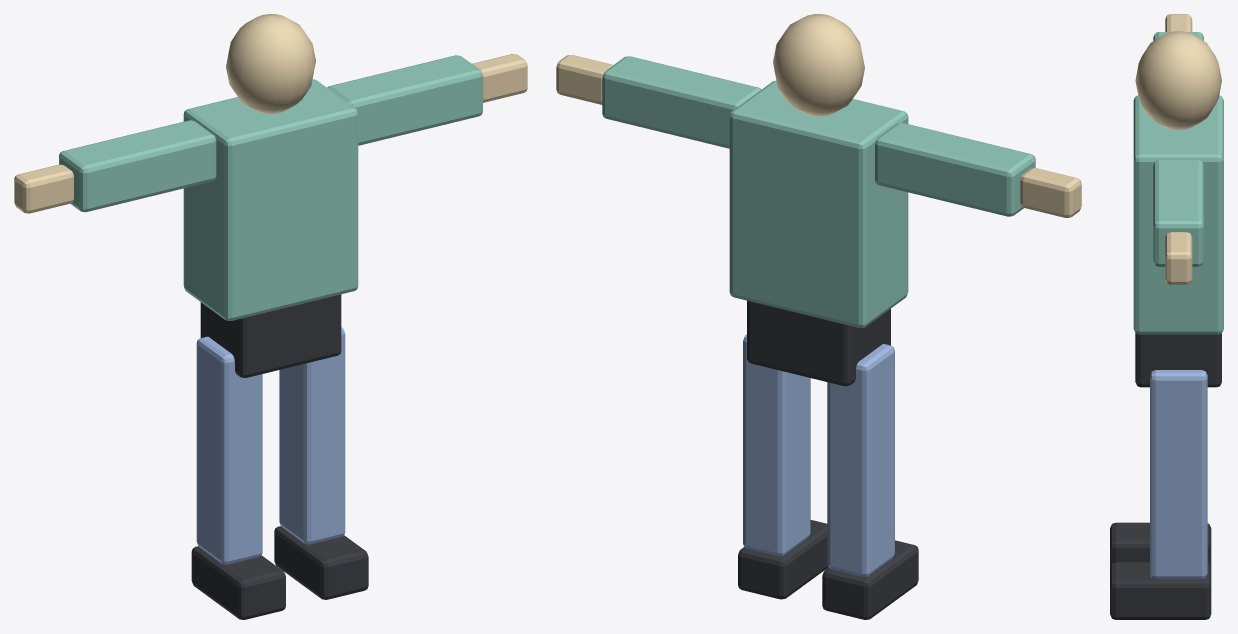
Rendered from TravelerB_blockout.glb.
The picture shows the model from 3 angles, left to right: view 1: azimuth 30°, elevation 25°; view 2: azimuth 150°, elevation 25°; view 3: azimuth 270°, elevation 25°; orthographic projection. The views are drawn at different scales.
Visible parts, largest first — view 1: CHR02_TravelerB_Jacket_L0, CHR02_TravelerB_LegR_L0, CHR02_TravelerB_LegL_L0, CHR02_TravelerB_ArmR_L0, CHR02_TravelerB_ArmL_L0, CHR02_TravelerB_Pelvis_L0, CHR02_TravelerB_Head_L0, CHR02_TravelerB_ShoeL_L0, CHR02_TravelerB_ShoeR_L0, CHR02_TravelerB_HandR_L0, CHR02_TravelerB_HandL_L0; view 2: CHR02_TravelerB_Jacket_L0, CHR02_TravelerB_LegR_L0, CHR02_TravelerB_LegL_L0, CHR02_TravelerB_ArmR_L0, CHR02_TravelerB_ArmL_L0, CHR02_TravelerB_Pelvis_L0, CHR02_TravelerB_Head_L0, CHR02_TravelerB_ShoeR_L0, CHR02_TravelerB_ShoeL_L0, CHR02_TravelerB_HandR_L0, CHR02_TravelerB_HandL_L0; view 3: CHR02_TravelerB_Jacket_L0, CHR02_TravelerB_LegL_L0, CHR02_TravelerB_Head_L0, CHR02_TravelerB_ShoeL_L0, CHR02_TravelerB_ArmL_L0, CHR02_TravelerB_Pelvis_L0, CHR02_TravelerB_ShoeR_L0, CHR02_TravelerB_HandL_L0, CHR02_TravelerB_HandR_L0.
Part boxes in pixels (x1,y1,x2,y2): CHR02_TravelerB_Jacket_L0: (183,79,358,320); CHR02_TravelerB_LegR_L0: (196,336,262,564); CHR02_TravelerB_LegL_L0: (279,327,345,544); CHR02_TravelerB_ArmR_L0: (59,120,216,212); CHR02_TravelerB_ArmL_L0: (327,55,482,145); CHR02_TravelerB_Pelvis_L0: (200,294,341,377); CHR02_TravelerB_Head_L0: (226,14,315,113); CHR02_TravelerB_ShoeL_L0: (274,526,368,599); CHR02_TravelerB_ShoeR_L0: (191,546,285,619); CHR02_TravelerB_HandR_L0: (14,164,73,213); CHR02_TravelerB_HandL_L0: (472,54,527,102); CHR02_TravelerB_Jacket_L0: (729,81,908,327); CHR02_TravelerB_LegR_L0: (827,344,894,576); CHR02_TravelerB_LegL_L0: (743,334,810,556); CHR02_TravelerB_ArmR_L0: (875,122,1035,216); CHR02_TravelerB_ArmL_L0: (602,56,761,148); CHR02_TravelerB_Pelvis_L0: (747,300,890,386); CHR02_TravelerB_Head_L0: (773,14,864,116); CHR02_TravelerB_ShoeR_L0: (822,540,918,619); CHR02_TravelerB_ShoeL_L0: (738,520,828,599); CHR02_TravelerB_HandR_L0: (1020,168,1081,217); CHR02_TravelerB_HandL_L0: (556,55,612,104); CHR02_TravelerB_Jacket_L0: (1133,95,1223,334); CHR02_TravelerB_LegL_L0: (1150,370,1207,579); CHR02_TravelerB_Head_L0: (1135,31,1221,130); CHR02_TravelerB_ShoeL_L0: (1110,562,1211,619); CHR02_TravelerB_ArmL_L0: (1153,160,1203,266); CHR02_TravelerB_Pelvis_L0: (1135,333,1221,387); CHR02_TravelerB_ShoeR_L0: (1110,522,1211,567); CHR02_TravelerB_HandL_L0: (1165,232,1192,284); CHR02_TravelerB_HandR_L0: (1165,14,1192,31).
Bounding box in the file's own units: 1.52 × 1.62 × 0.3002.
